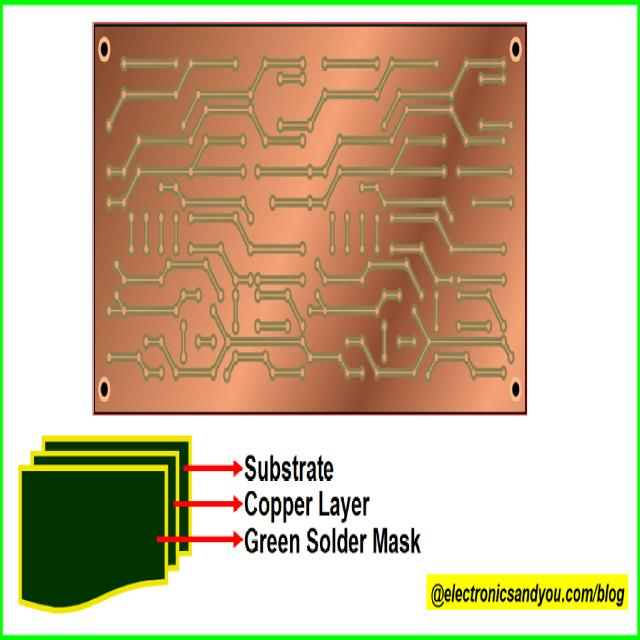pcb: (92, 22, 527, 414)
